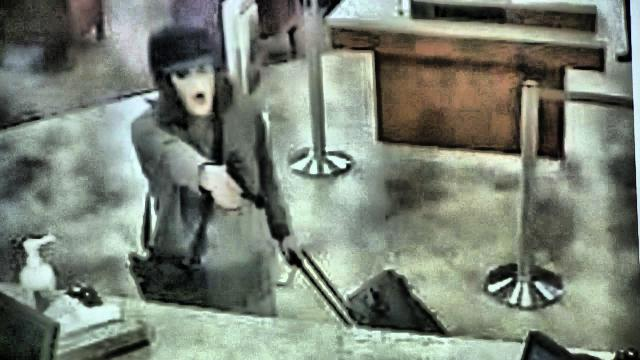pistol: (217, 150, 267, 212)
